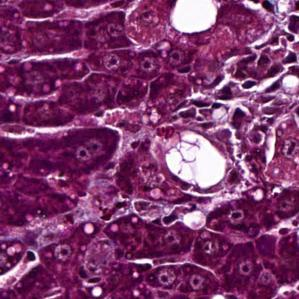ballooning: (164, 128, 230, 190)
